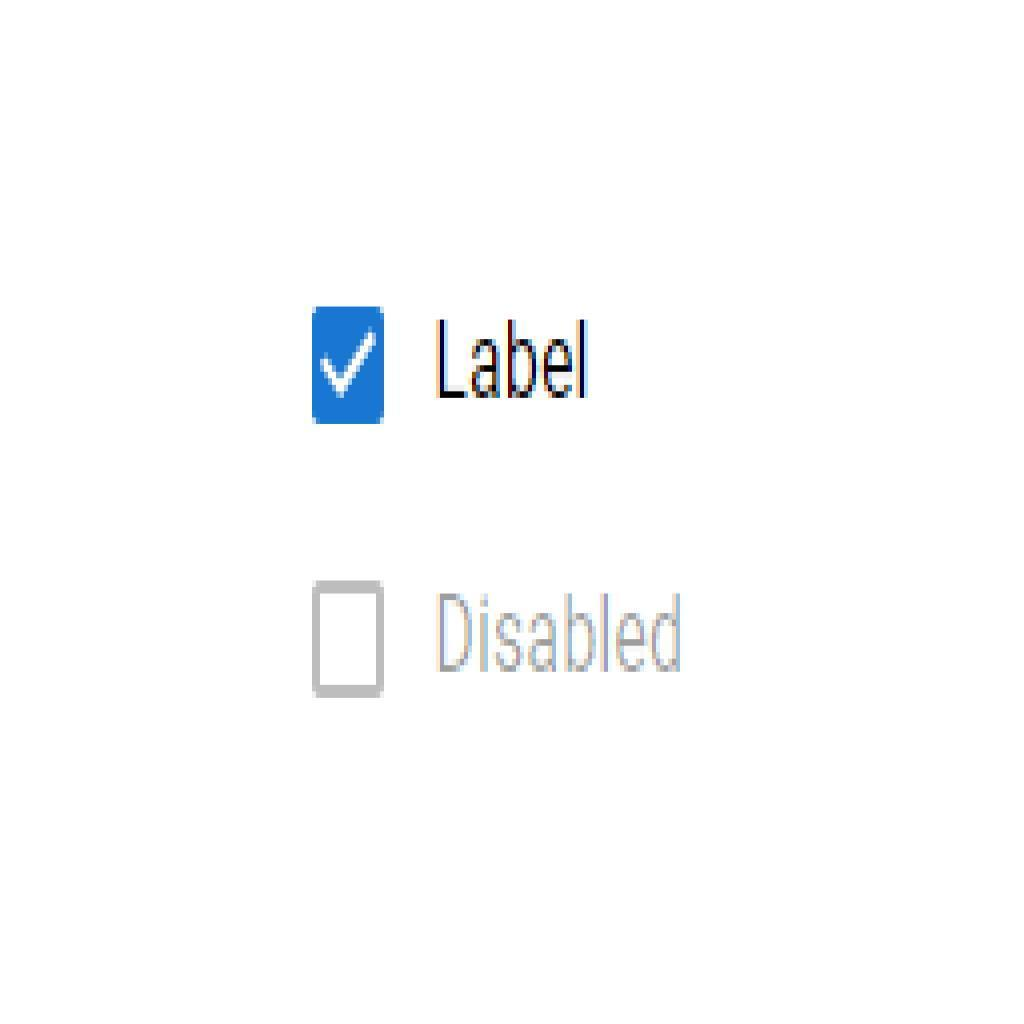checkbox: (313, 306, 385, 424), (314, 584, 385, 692)
label: (430, 590, 693, 686), (434, 311, 590, 408)
